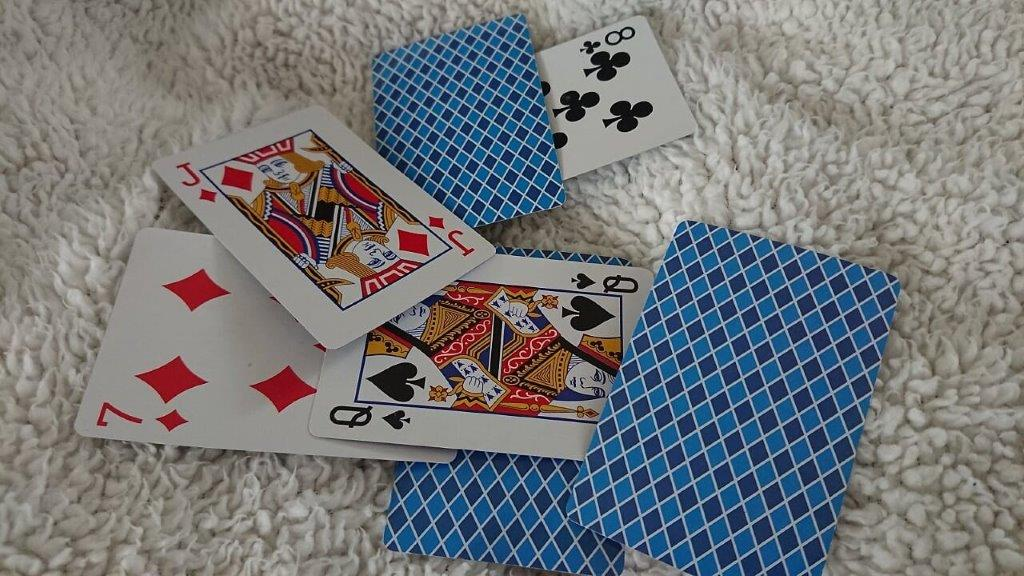BACK: (565, 220, 901, 576), (371, 14, 556, 145), (383, 464, 565, 576)
JD: (168, 156, 233, 209)
